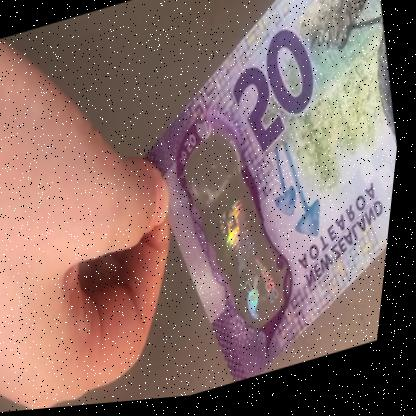50B: (181, 136, 305, 343)
